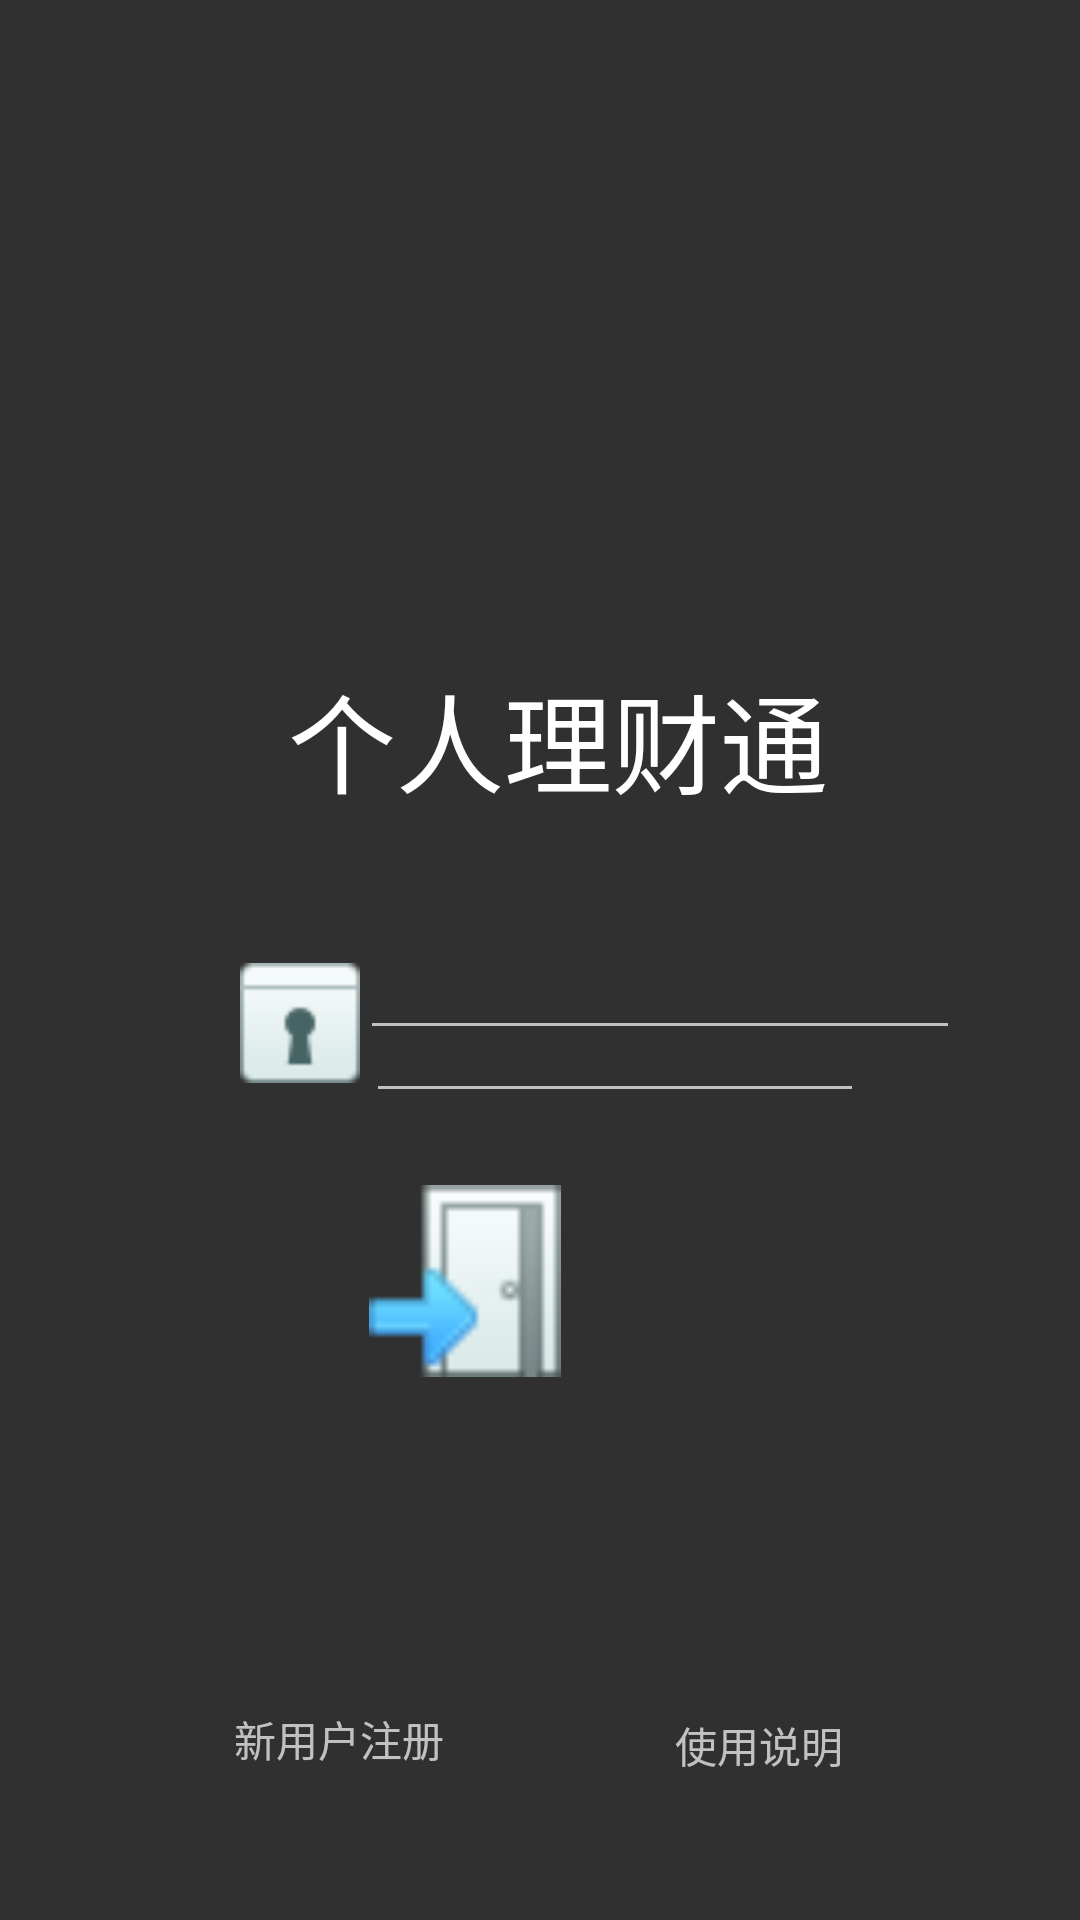

Icons on this 1080 x 1920 Android screen, each with its box as (x1, y1, x2, y2):
login: (369, 1185, 561, 1377)
